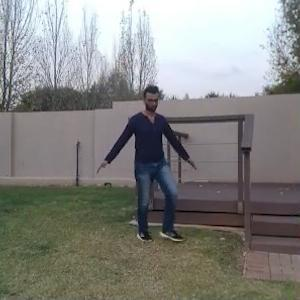land: (97, 88, 197, 260)
